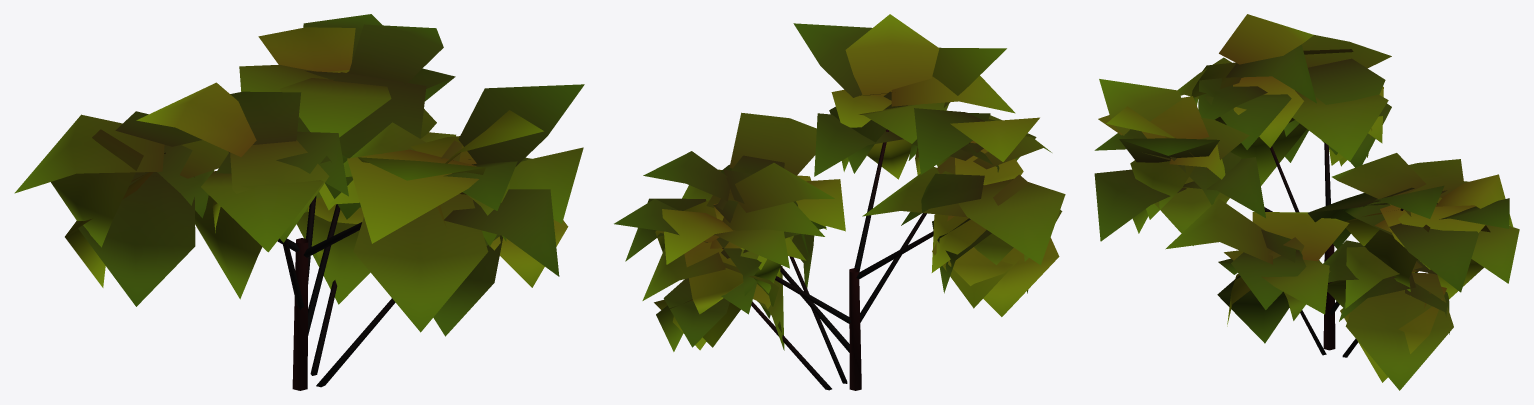
The model's file is broadleaf_c_crown.glb.
The picture shows the model from 3 angles, left to right: view 1: azimuth 30°, elevation 25°; view 2: azimuth 150°, elevation 25°; view 3: azimuth 270°, elevation 25°; orthographic projection. The views are drawn at different scales.
Visible parts, largest first — view 1: broadleaf_c_high; view 2: broadleaf_c_high; view 3: broadleaf_c_high.
Boxes of the visible parts, bbox=[...] form: broadleaf_c_high: bbox=[14, 14, 584, 390]; broadleaf_c_high: bbox=[614, 14, 1065, 390]; broadleaf_c_high: bbox=[1094, 14, 1519, 390].
Bounding box in the file's own units: 7.98 × 5.35 × 7.7.
1 material, 1 textured.
